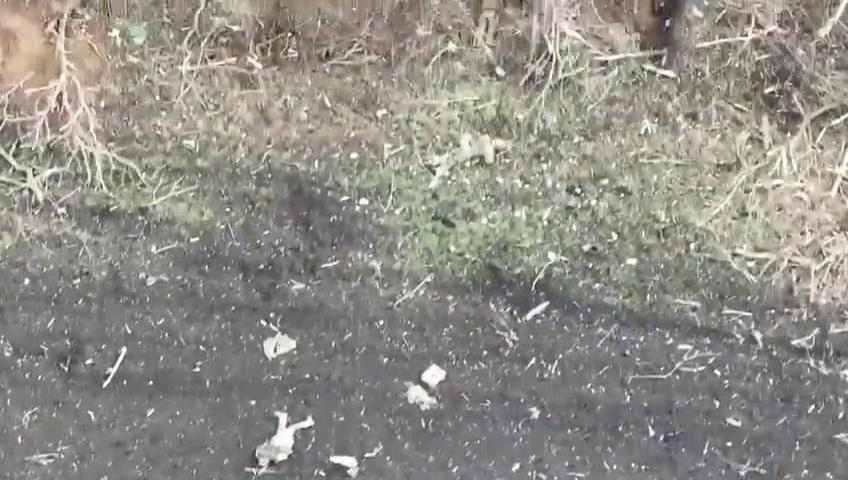person: (426, 133, 504, 182), (254, 408, 315, 467), (476, 0, 504, 49)
